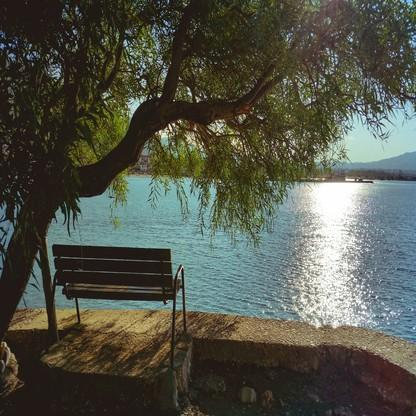obstacle: (53, 238, 205, 353)
